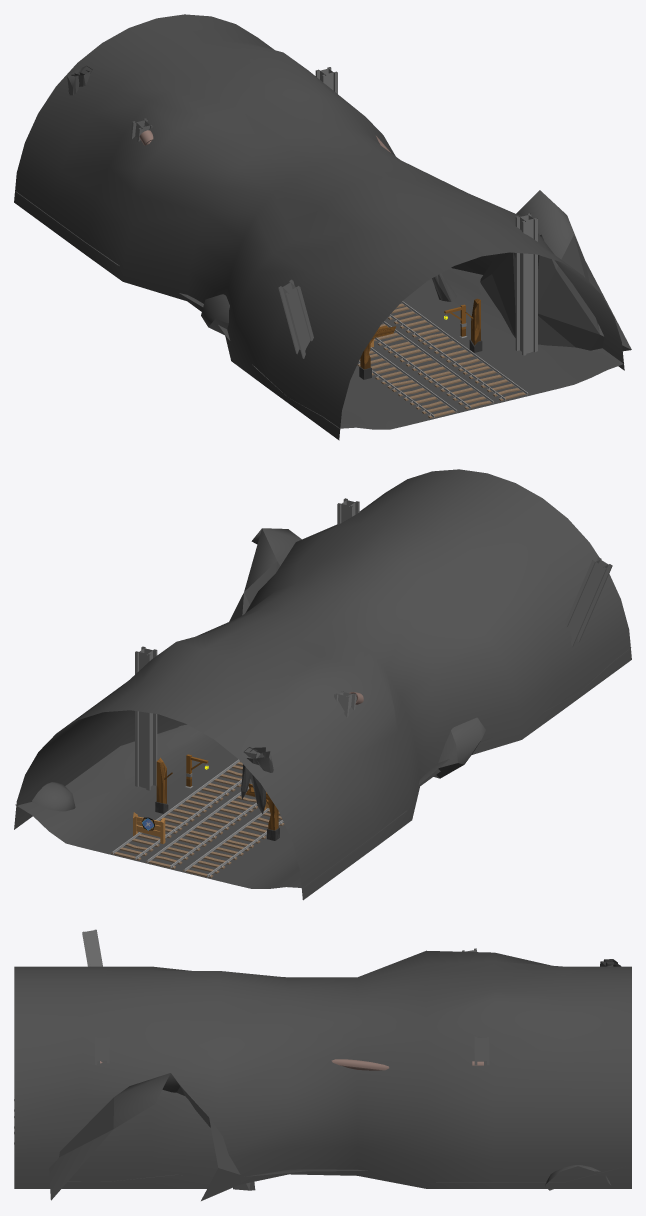
The model's file is Modulo V1 Obstaculos.fbx.
The picture shows the model from 3 angles, top to bottom: view 1: azimuth 30°, elevation 25°; view 2: azimuth 150°, elevation 25°; view 3: azimuth 270°, elevation 25°; orthographic projection. The views are drawn at different scales.
Visible parts, largest first — view 1: Cube.013; view 2: Cube.013; view 3: Cube.013.
Boxes of the visible parts, x1=… form: Cube.013: x1=14, y1=14, x2=631, y2=440; Cube.013: x1=14, y1=469, x2=631, y2=900; Cube.013: x1=14, y1=929, x2=631, y2=1200.
Bounding box in the file's own units: 2794 × 1467 × 4762.
